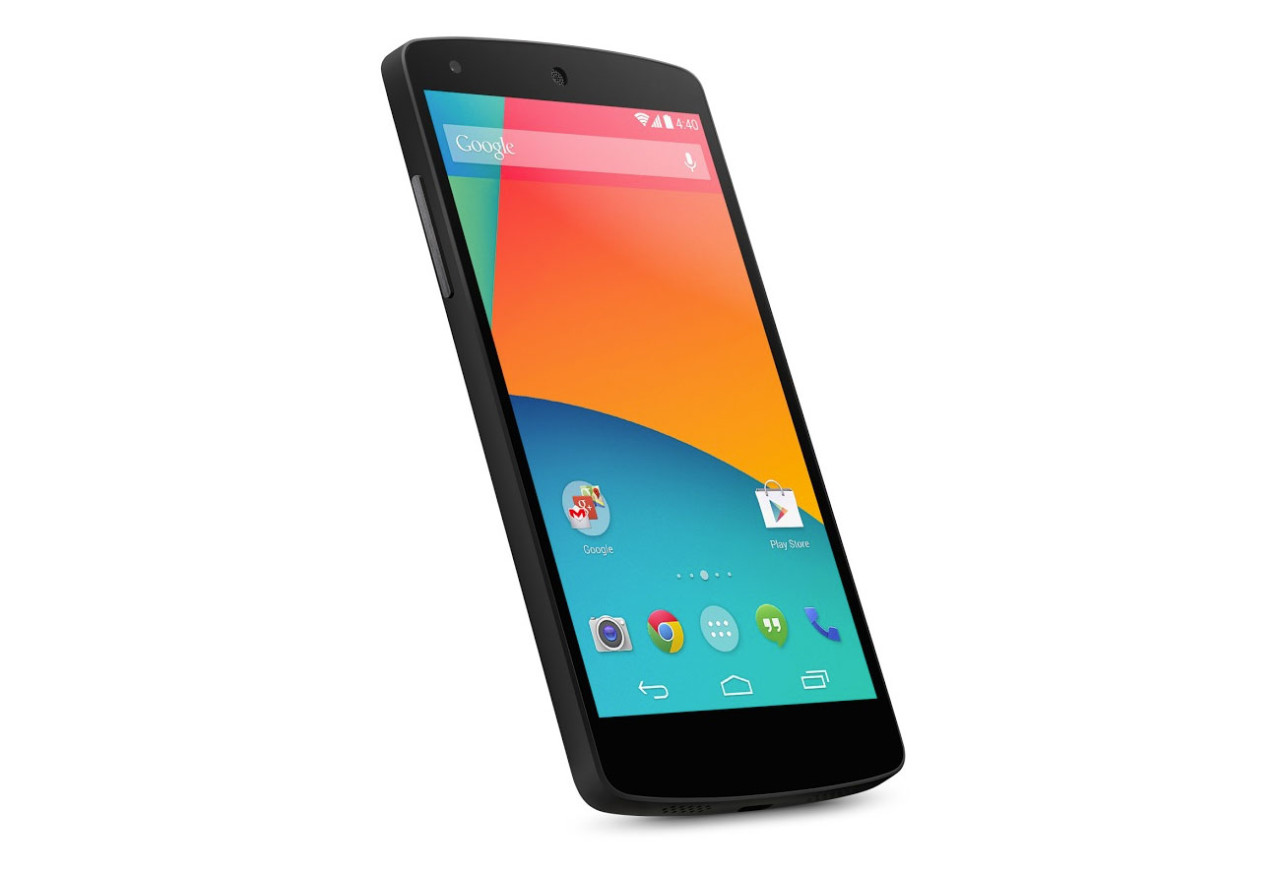smartphone: (379, 36, 905, 817)
